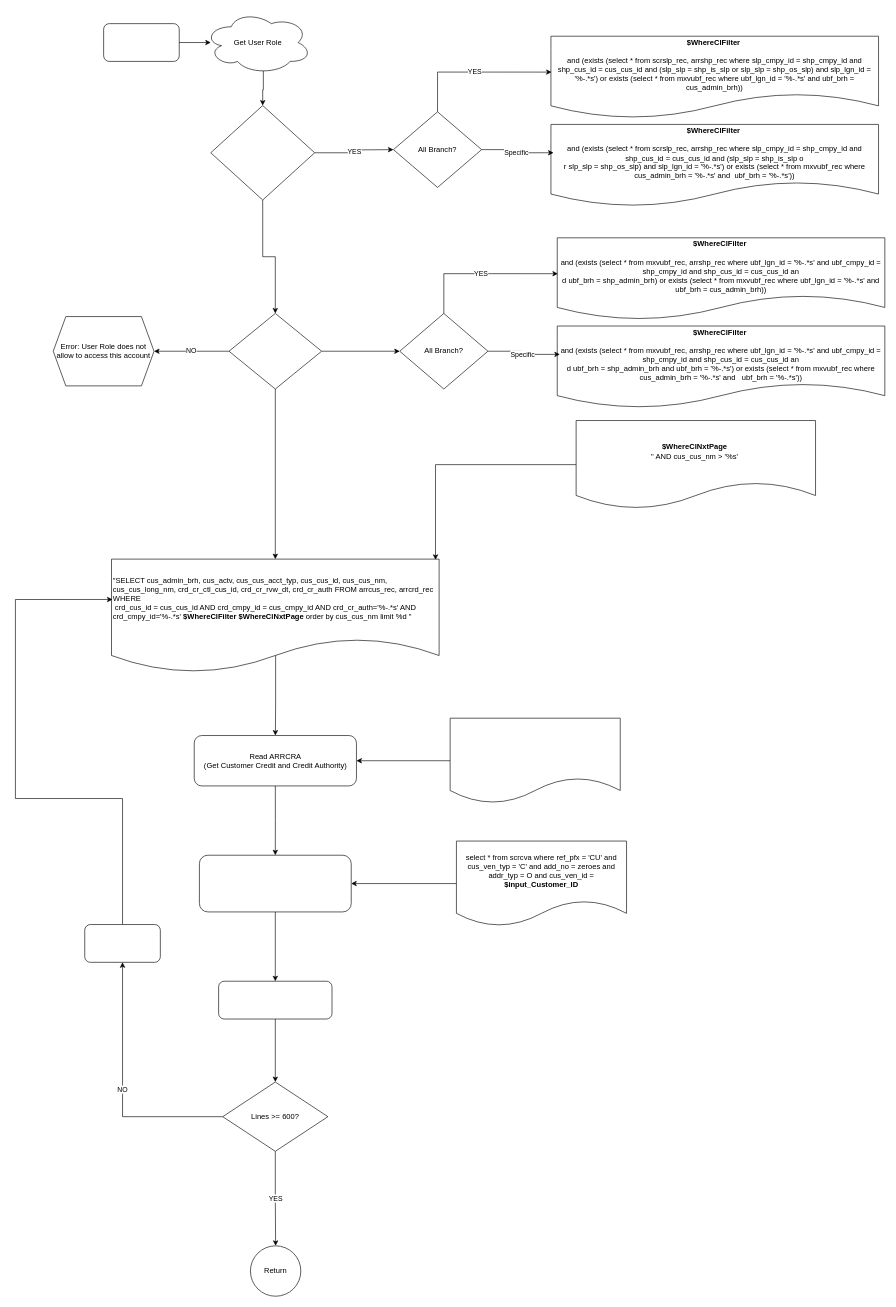
Image size: 896x1307. Some labels were removed from this diagram. Here are the shapes that lost their labels. From the top down, the centre of each, then its label:
At (141,42): "START".
At (262,152): "ISP or OSP Role?".
At (275,351): "Has Other Roles?".
At (535,760): "select * from arrcra_rec where cr_auth = $ARRCUS_CusID".
At (275,883): "Read SCRCVA (Customer Vendor and Address)".
At (122,943): "Fetch Next Record".
At (275,1000): "Populate Output Record".
